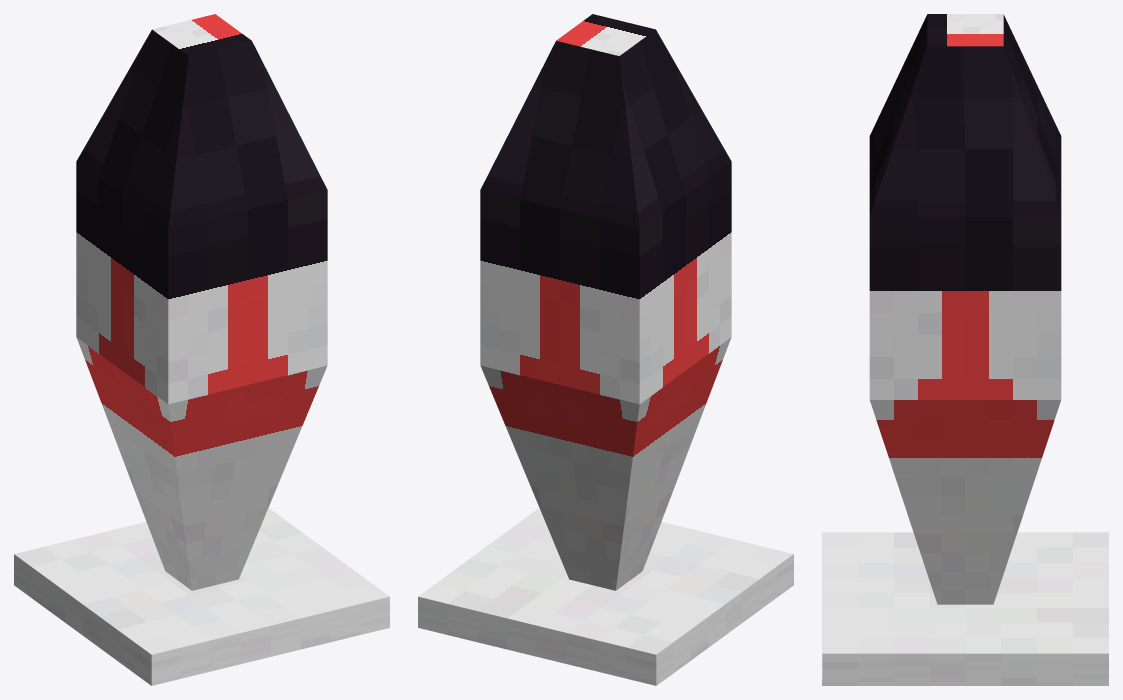
Rendered from crystal_relay_out.obj.
The picture shows the model from 3 angles, left to right: view 1: azimuth 30°, elevation 25°; view 2: azimuth 150°, elevation 25°; view 3: azimuth 270°, elevation 25°; orthographic projection. The views are drawn at different scales.
Visible parts, largest first — view 1: Cube.001_Cube.004, Cube_Cube.001; view 2: Cube.001_Cube.004, Cube_Cube.001; view 3: Cube.001_Cube.004, Cube_Cube.001.
Part boxes in pixels (left/top/right/bottom): Cube.001_Cube.004: left=76, top=14, right=327, bottom=590; Cube_Cube.001: left=14, top=508, right=389, bottom=685; Cube.001_Cube.004: left=480, top=14, right=731, bottom=590; Cube_Cube.001: left=418, top=508, right=793, bottom=685; Cube.001_Cube.004: left=869, top=14, right=1061, bottom=604; Cube_Cube.001: left=822, top=532, right=1108, bottom=685.
Size of the model in its own units: 0.25 by 0.5728 by 0.25.
